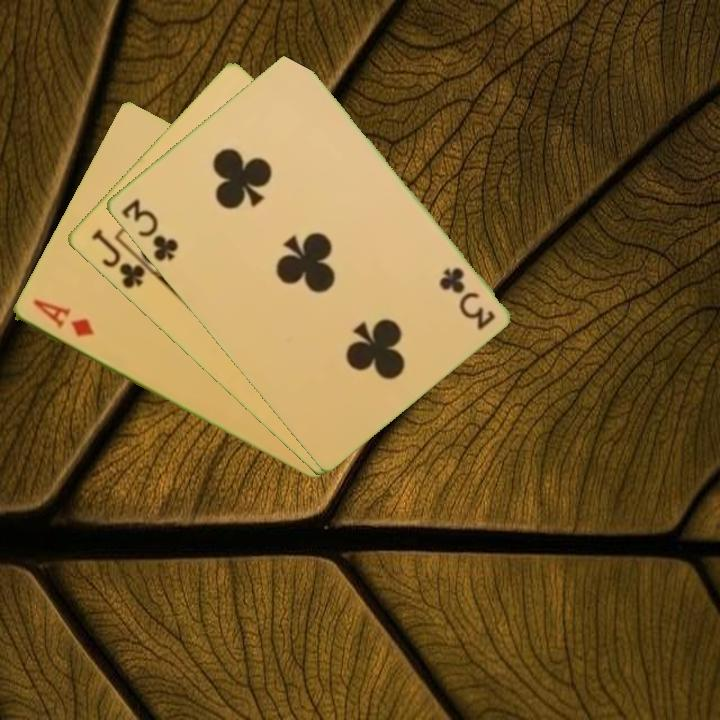3c: (117, 195, 181, 264), (435, 263, 498, 333)
Ad: (29, 295, 96, 340)
Jc: (87, 225, 157, 292)
